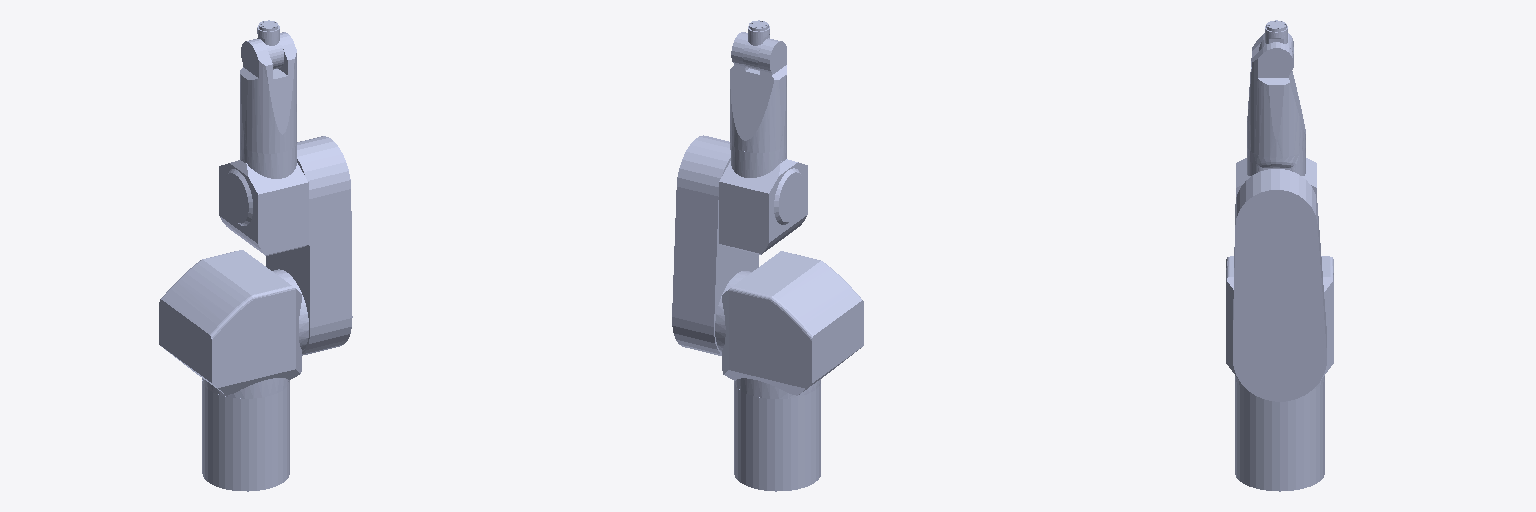
URDF robot description (Arm):
<robot
  name="Arm">
  <link
    name="base_link">
    <inertial>
      <origin
        xyz="-1.75417732463372E-18 0.105 7.34788079488412E-18"
        rpy="0 0 0" />
      <mass
        value="5.34384910375624" />
      <inertia
        ixx="0"
        ixy="0"
        ixz="0"
        iyy="0"
        iyz="0"
        izz="0" />
    </inertial>
    <visual>
      <origin
        xyz="0 0 0"
        rpy="0 0 0" />
      <geometry>
        <mesh
          filename="package://Arm/meshes/base_link.STL" />
      </geometry>
      <material
        name="">
        <color
          rgba="0.792156862745098 0.819607843137255 0.933333333333333 1" />
      </material>
    </visual>
    <collision>
      <origin
        xyz="0 0 0"
        rpy="0 0 0" />
      <geometry>
        <mesh
          filename="package://Arm/meshes/base_link.STL" />
      </geometry>
    </collision>
  </link>
  <link
    name="Link_1">
    <inertial>
      <origin
        xyz="-0.019385 -8.9375E-10 0.12294"
        rpy="0 0 0" />
      <mass
        value="10.375" />
      <inertia
        ixx="0"
        ixy="0"
        ixz="0"
        iyy="0"
        iyz="0"
        izz="0" />
    </inertial>
    <visual>
      <origin
        xyz="0 0 0"
        rpy="0 0 0" />
      <geometry>
        <mesh
          filename="package://Arm/meshes/Link_1.STL" />
      </geometry>
      <material
        name="">
        <color
          rgba="0.79216 0.81961 0.93333 1" />
      </material>
    </visual>
    <collision>
      <origin
        xyz="0 0 0"
        rpy="0 0 0" />
      <geometry>
        <mesh
          filename="package://Arm/meshes/Link_1.STL" />
      </geometry>
    </collision>
  </link>
  <joint
    name="Joint_1"
    type="continuous">
    <origin
      xyz="0 0 0.21"
      rpy="-6.123E-17 0 0" />
    <parent
      link="base_link" />
    <child
      link="Link_1" />
    <axis
      xyz="0 0 1" />
  </joint>
  <link
    name="Link_2">
    <inertial>
      <origin
        xyz="0.05 -9.3849E-16 0.13394"
        rpy="0 0 0" />
      <mass
        value="7.5525" />
      <inertia
        ixx="0"
        ixy="0"
        ixz="0"
        iyy="0"
        iyz="0"
        izz="0" />
    </inertial>
    <visual>
      <origin
        xyz="0 0 0"
        rpy="0 0 0" />
      <geometry>
        <mesh
          filename="package://Arm/meshes/Link_2.STL" />
      </geometry>
      <material
        name="">
        <color
          rgba="0.79216 0.81961 0.93333 1" />
      </material>
    </visual>
    <collision>
      <origin
        xyz="0 0 0"
        rpy="0 0 0" />
      <geometry>
        <mesh
          filename="package://Arm/meshes/Link_2.STL" />
      </geometry>
    </collision>
  </link>
  <joint
    name="Joint_2"
    type="continuous">
    <origin
      xyz="0.0975 0 0.131"
      rpy="0.024099 0 0" />
    <parent
      link="Link_1" />
    <child
      link="Link_2" />
    <axis
      xyz="1 0 0" />
  </joint>
  <link
    name="Link_3">
    <inertial>
      <origin
        xyz="-0.057926 -5.1512E-08 -0.013221"
        rpy="0 0 0" />
      <mass
        value="3.8537" />
      <inertia
        ixx="0"
        ixy="0"
        ixz="0"
        iyy="0"
        iyz="0"
        izz="0" />
    </inertial>
    <visual>
      <origin
        xyz="0 0 0"
        rpy="0 0 0" />
      <geometry>
        <mesh
          filename="package://Arm/meshes/Link_3.STL" />
      </geometry>
      <material
        name="">
        <color
          rgba="0.79216 0.81961 0.93333 1" />
      </material>
    </visual>
    <collision>
      <origin
        xyz="0 0 0"
        rpy="0 0 0" />
      <geometry>
        <mesh
          filename="package://Arm/meshes/Link_3.STL" />
      </geometry>
    </collision>
  </link>
  <joint
    name="Joint_3"
    type="continuous">
    <origin
      xyz="0 0 0.29"
      rpy="-0.024099 0 0" />
    <parent
      link="Link_2" />
    <child
      link="Link_3" />
    <axis
      xyz="1 0 0" />
  </joint>
  <link
    name="Link_4">
    <inertial>
      <origin
        xyz="8.46329662532175E-08 -0.00366048457734246 0.0945712302580208"
        rpy="0 0 0" />
      <mass
        value="1.90216848982571" />
      <inertia
        ixx="0"
        ixy="0"
        ixz="0"
        iyy="0"
        iyz="0"
        izz="0" />
    </inertial>
    <visual>
      <origin
        xyz="0 0 0"
        rpy="0 0 0" />
      <geometry>
        <mesh
          filename="package://Arm/meshes/Link_4.STL" />
      </geometry>
      <material
        name="">
        <color
          rgba="0.792156862745098 0.819607843137255 0.933333333333333 1" />
      </material>
    </visual>
    <collision>
      <origin
        xyz="0 0 0"
        rpy="0 0 0" />
      <geometry>
        <mesh
          filename="package://Arm/meshes/Link_4.STL" />
      </geometry>
    </collision>
  </link>
  <joint
    name="Joint_4"
    type="continuous">
    <origin
      xyz="-0.0485 0 0.11"
      rpy="0 0 0" />
    <parent
      link="Link_3" />
    <child
      link="Link_4" />
    <axis
      xyz="0 0 1" />
  </joint>
  <link
    name="Link_5">
    <inertial>
      <origin
        xyz="-6.8207E-12 -7.8491E-09 0.0092523"
        rpy="0 0 0" />
      <mass
        value="0.1701" />
      <inertia
        ixx="0"
        ixy="0"
        ixz="0"
        iyy="0"
        iyz="0"
        izz="0" />
    </inertial>
    <visual>
      <origin
        xyz="0 0 0"
        rpy="0 0 0" />
      <geometry>
        <mesh
          filename="package://Arm/meshes/Link_5.STL" />
      </geometry>
      <material
        name="">
        <color
          rgba="0.79216 0.81961 0.93333 1" />
      </material>
    </visual>
    <collision>
      <origin
        xyz="0 0 0"
        rpy="0 0 0" />
      <geometry>
        <mesh
          filename="package://Arm/meshes/Link_5.STL" />
      </geometry>
    </collision>
  </link>
  <joint
    name="Joint_5"
    type="continuous">
    <origin
      xyz="0 0 0.2"
      rpy="0 0 0" />
    <parent
      link="Link_4" />
    <child
      link="Link_5" />
    <axis
      xyz="1 0 0" />
  </joint>
  <link
    name="Link_6">
    <inertial>
      <origin
        xyz="3.4694E-18 0.00015284 0.0043569"
        rpy="0 0 0" />
      <mass
        value="0.012526" />
      <inertia
        ixx="0"
        ixy="0"
        ixz="0"
        iyy="0"
        iyz="0"
        izz="0" />
    </inertial>
    <visual>
      <origin
        xyz="0 0 0"
        rpy="0 0 0" />
      <geometry>
        <mesh
          filename="package://Arm/meshes/Link_6.STL" />
      </geometry>
      <material
        name="">
        <color
          rgba="0.79216 0.81961 0.93333 1" />
      </material>
    </visual>
    <collision>
      <origin
        xyz="0 0 0"
        rpy="0 0 0" />
      <geometry>
        <mesh
          filename="package://Arm/meshes/Link_6.STL" />
      </geometry>
    </collision>
  </link>
  <joint
    name="Joint_6"
    type="continuous">
    <origin
      xyz="0 0 0.0555"
      rpy="0 0 -2.1989" />
    <parent
      link="Link_5" />
    <child
      link="Link_6" />
    <axis
      xyz="0 0 1" />
  </joint>
</robot>

--- Facts derived from the render (not from the file) ---
Views: 3 orthographic renders of the robot side by side, from view 1: azimuth 30°, elevation 25°; view 2: azimuth 150°, elevation 25°; view 3: azimuth 270°, elevation 25°.
Robot: Arm — 7 links, 6 joints (6 continuous); root link base_link; default pose: every joint at zero.
Visible links, largest first — view 1: Link_1, Link_2, base_link, Link_3, Link_4, Link_5; view 2: Link_1, Link_2, base_link, Link_3, Link_4, Link_5; view 3: Link_2, base_link, Link_4, Link_1, Link_3.
Boxes of the visible links, x1,y1,x2,y2 form: Link_1: (159, 250, 308, 398); Link_2: (266, 136, 352, 355); base_link: (202, 380, 289, 491); Link_3: (219, 144, 308, 255); Link_4: (240, 32, 296, 153); Link_5: (257, 29, 283, 69); Link_1: (715, 251, 863, 398); Link_2: (672, 135, 758, 355); base_link: (734, 383, 820, 491); Link_3: (719, 143, 807, 254); Link_4: (730, 32, 786, 152); Link_5: (743, 30, 769, 70); Link_2: (1233, 169, 1326, 401); base_link: (1235, 380, 1324, 491); Link_4: (1247, 33, 1305, 157); Link_1: (1226, 256, 1333, 388); Link_3: (1236, 148, 1316, 197).
Bounding box of the posed robot: 0.341 × 0.214 × 1.01 m (x, y, z).
Meshes: 7 distinct files referenced, 7 mesh visuals loaded (7 binary STL).